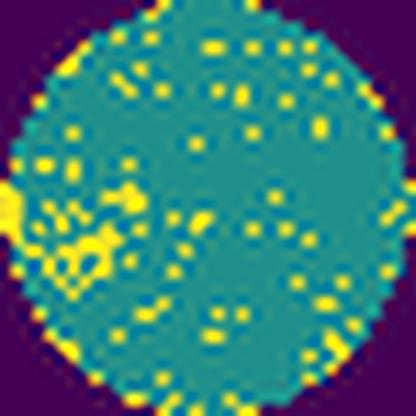Loc: (51, 217, 124, 298), (104, 181, 146, 213)
